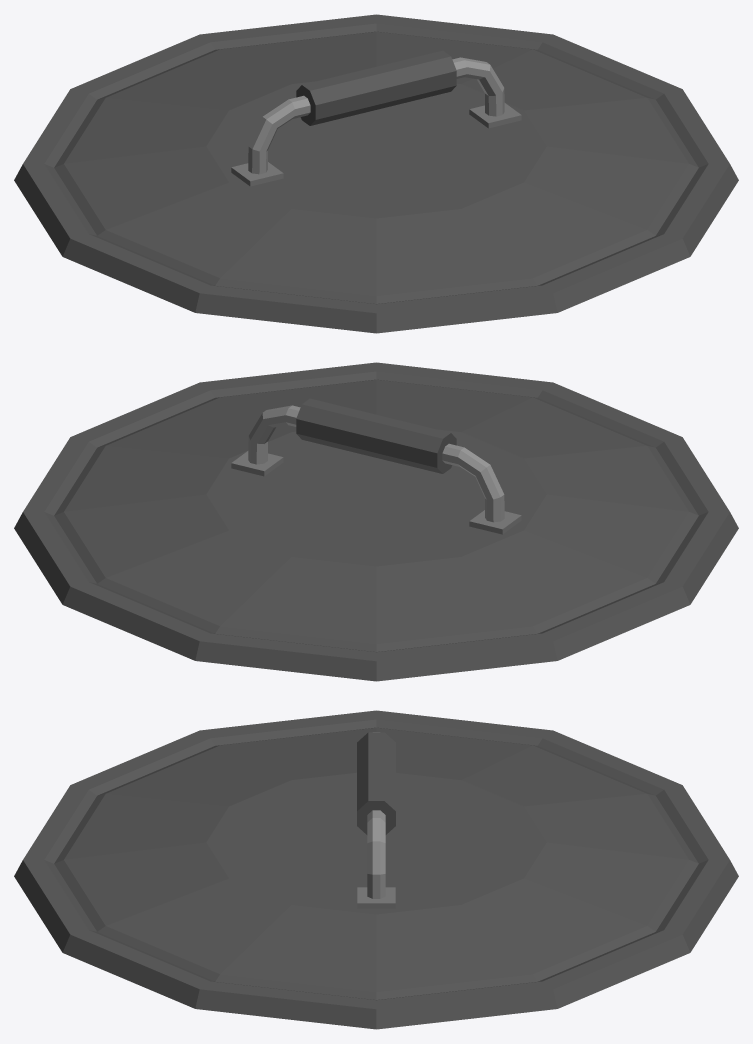
Rendered from PanPart_02_C2.fbx.
3 renders of one model, top to bottom at view 1: azimuth 30°, elevation 25°; view 2: azimuth 150°, elevation 25°; view 3: azimuth 270°, elevation 25°, orthographic.
Parts seen in each view (by area): view 1: PanPart_02_C2; view 2: PanPart_02_C2; view 3: PanPart_02_C2.
Part boxes in pixels (bbox=[...]): PanPart_02_C2: bbox=[14, 14, 738, 333]; PanPart_02_C2: bbox=[14, 362, 738, 681]; PanPart_02_C2: bbox=[14, 710, 738, 1029].
Size of the model in its own units: 18.36 by 3.06 by 18.36.
